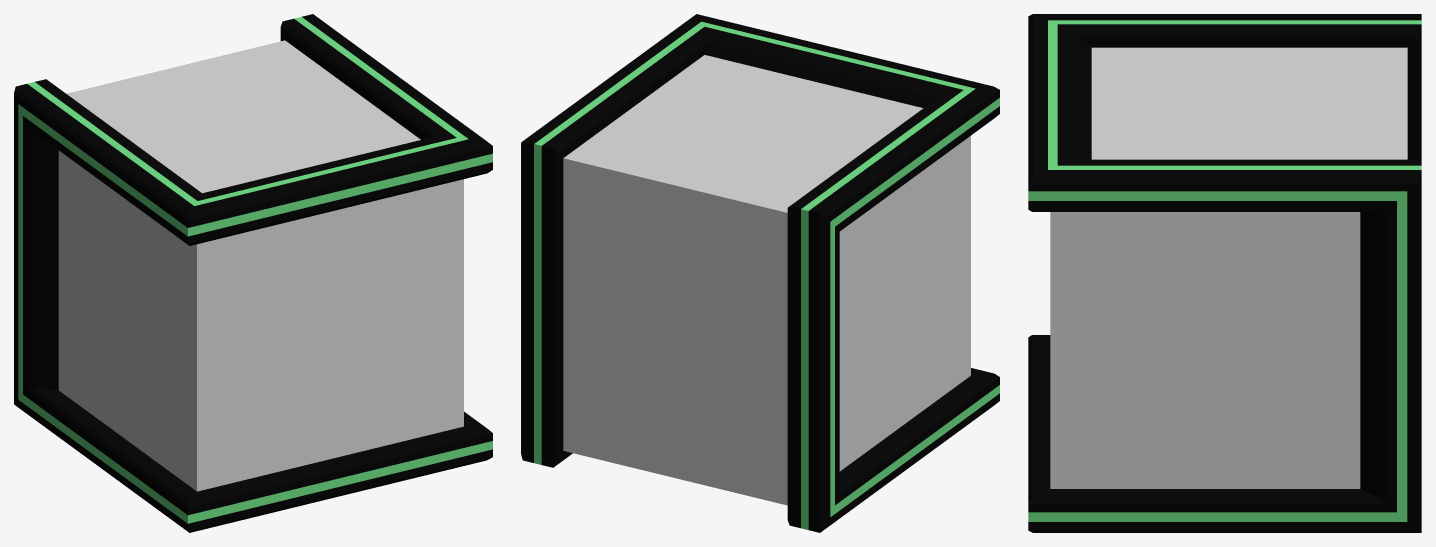
File: cityCubeHQ1.glb
The picture shows the model from 3 angles, left to right: view 1: azimuth 30°, elevation 25°; view 2: azimuth 150°, elevation 25°; view 3: azimuth 270°, elevation 25°; orthographic projection. The views are drawn at different scales.
Parts seen in each view (by area): view 1: base.004; view 2: base.004; view 3: base.004.
Boxes of the visible parts, box(x1,y1,x2,y2) form: base.004: box(14, 14, 492, 532); base.004: box(521, 14, 999, 532); base.004: box(1028, 14, 1421, 532).
Size of the model in its own units: 1.99 by 1.99 by 1.99.
